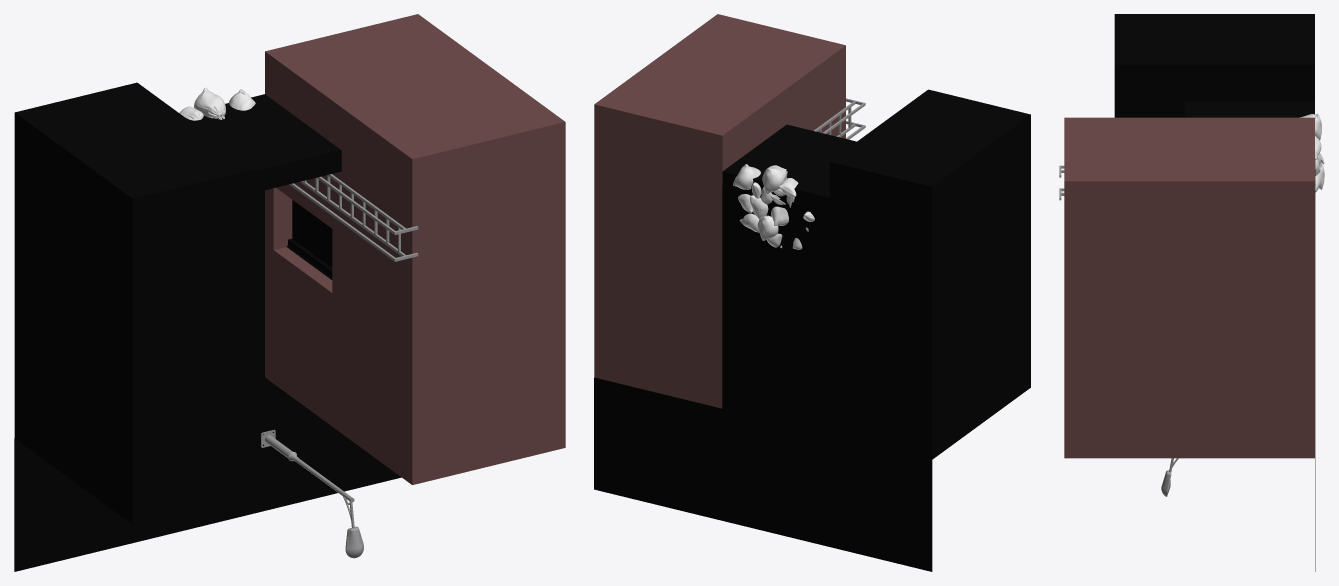
File: Back Alley.fbx
The picture shows the model from 3 angles, left to right: view 1: azimuth 30°, elevation 25°; view 2: azimuth 150°, elevation 25°; view 3: azimuth 270°, elevation 25°; orthographic projection. The views are drawn at different scales.
Visible parts, largest first — view 1: Building B, Building A, Asphalt Alley, Wall, Fire Ladder, Cube_11, Body1, MeshBody5; view 2: Building A, Asphalt Alley, Building B, Wall, Fire Ladder; view 3: Building B, Building A, Wall, Asphalt Alley.
Part boxes in pixels (<box>): Building B: <box>265,14,565,484</box>; Building A: <box>14,82,255,524</box>; Asphalt Alley: <box>14,190,401,571</box>; Wall: <box>186,94,341,192</box>; Fire Ladder: <box>289,174,418,261</box>; Cube_11: <box>292,200,332,267</box>; Body1: <box>261,429,363,558</box>; MeshBody5: <box>194,87,225,119</box>; Building A: <box>829,89,1030,459</box>; Asphalt Alley: <box>594,185,932,571</box>; Building B: <box>594,14,845,408</box>; Wall: <box>722,124,856,210</box>; Fire Ladder: <box>814,98,865,139</box>; Building B: <box>1064,117,1314,458</box>; Building A: <box>1114,14,1314,117</box>; Wall: <box>1184,101,1314,117</box>; Asphalt Alley: <box>1315,159,1315,571</box>.
Bounding box in the file's own units: 7900 × 8600 × 5292.
